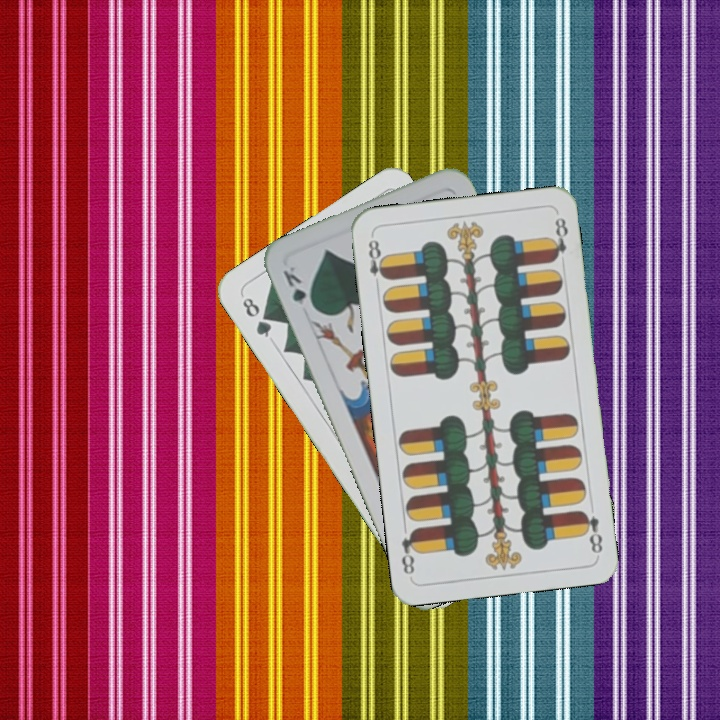E8: (364, 235, 390, 291), (577, 507, 605, 556)
G8: (238, 293, 275, 341)
GK: (278, 262, 318, 314)
